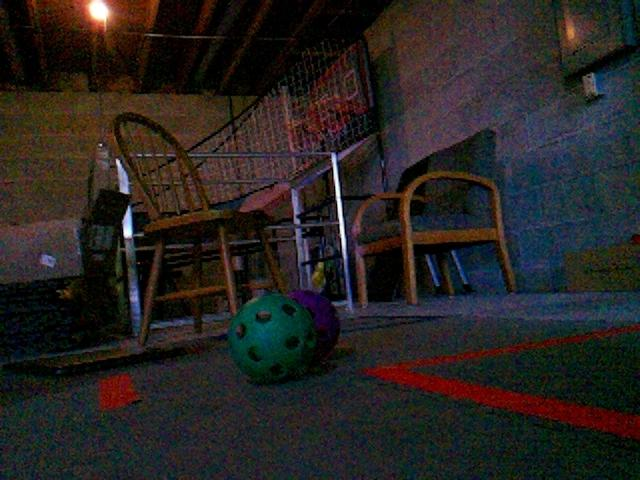Green: (225, 293, 315, 383)
Purple: (290, 291, 341, 359)
